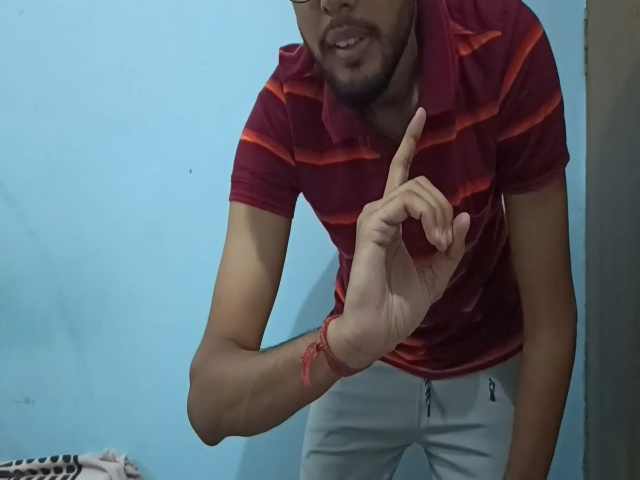D: (344, 106, 472, 358)
